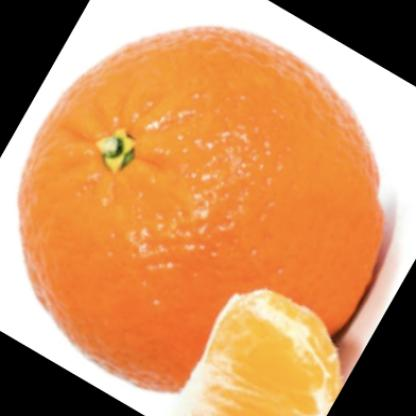fresh: (18, 25, 388, 397)
